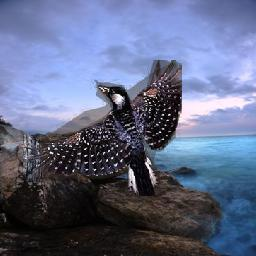Woodpecker: (24, 60, 183, 196)
